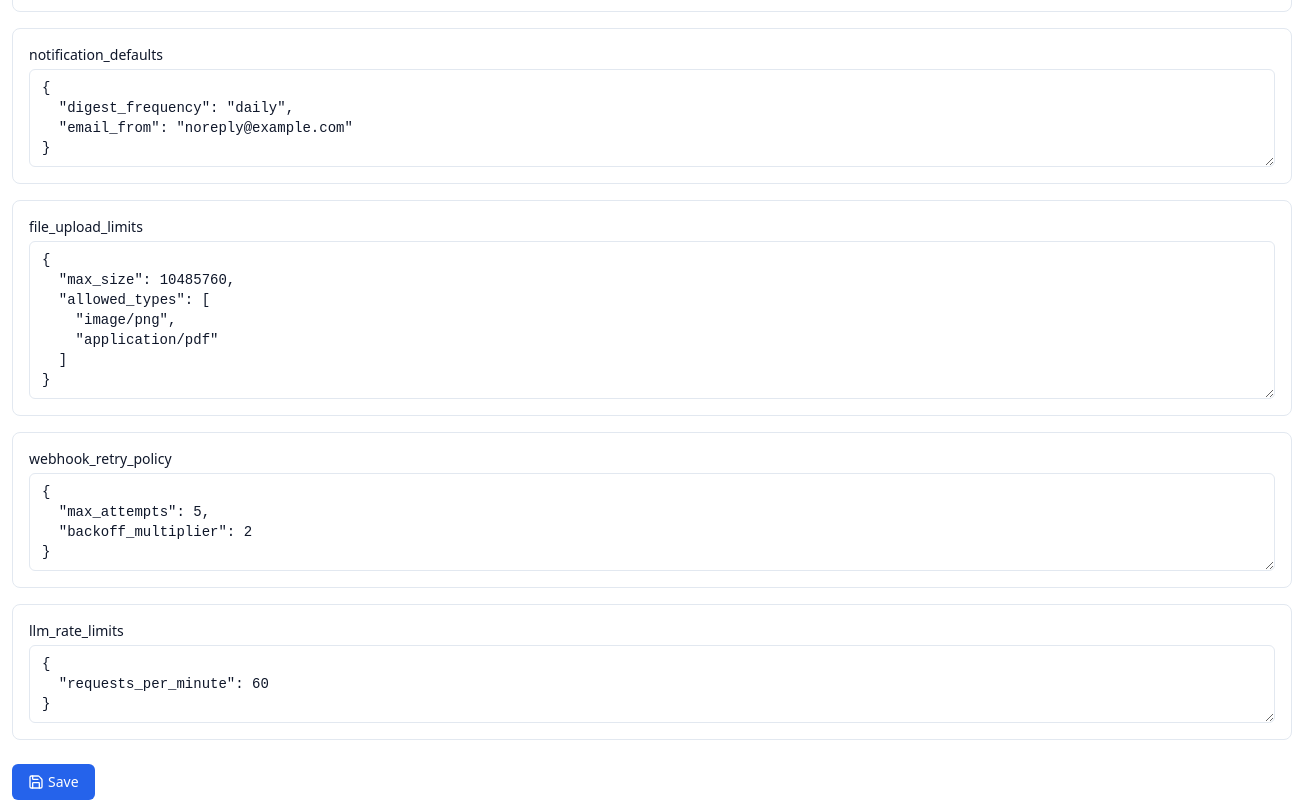
it: SystemSettings › shows saving state on button during save
(page scrolled)
Click the button with test id "settings-save-btn": (53, 782) [12, 764, 95, 799]
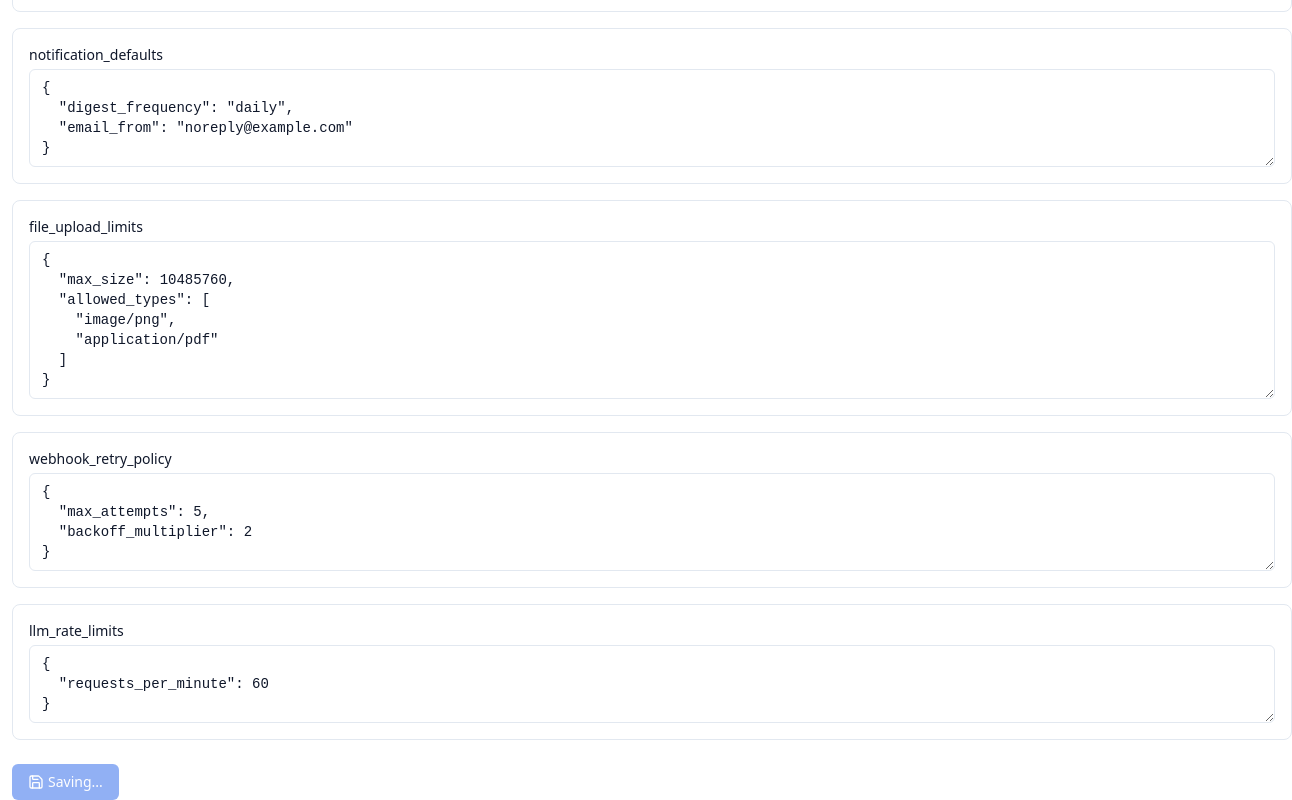
Expected: the button with test id "settings-save-btn" reads "Saving...", [12, 764, 119, 799]
